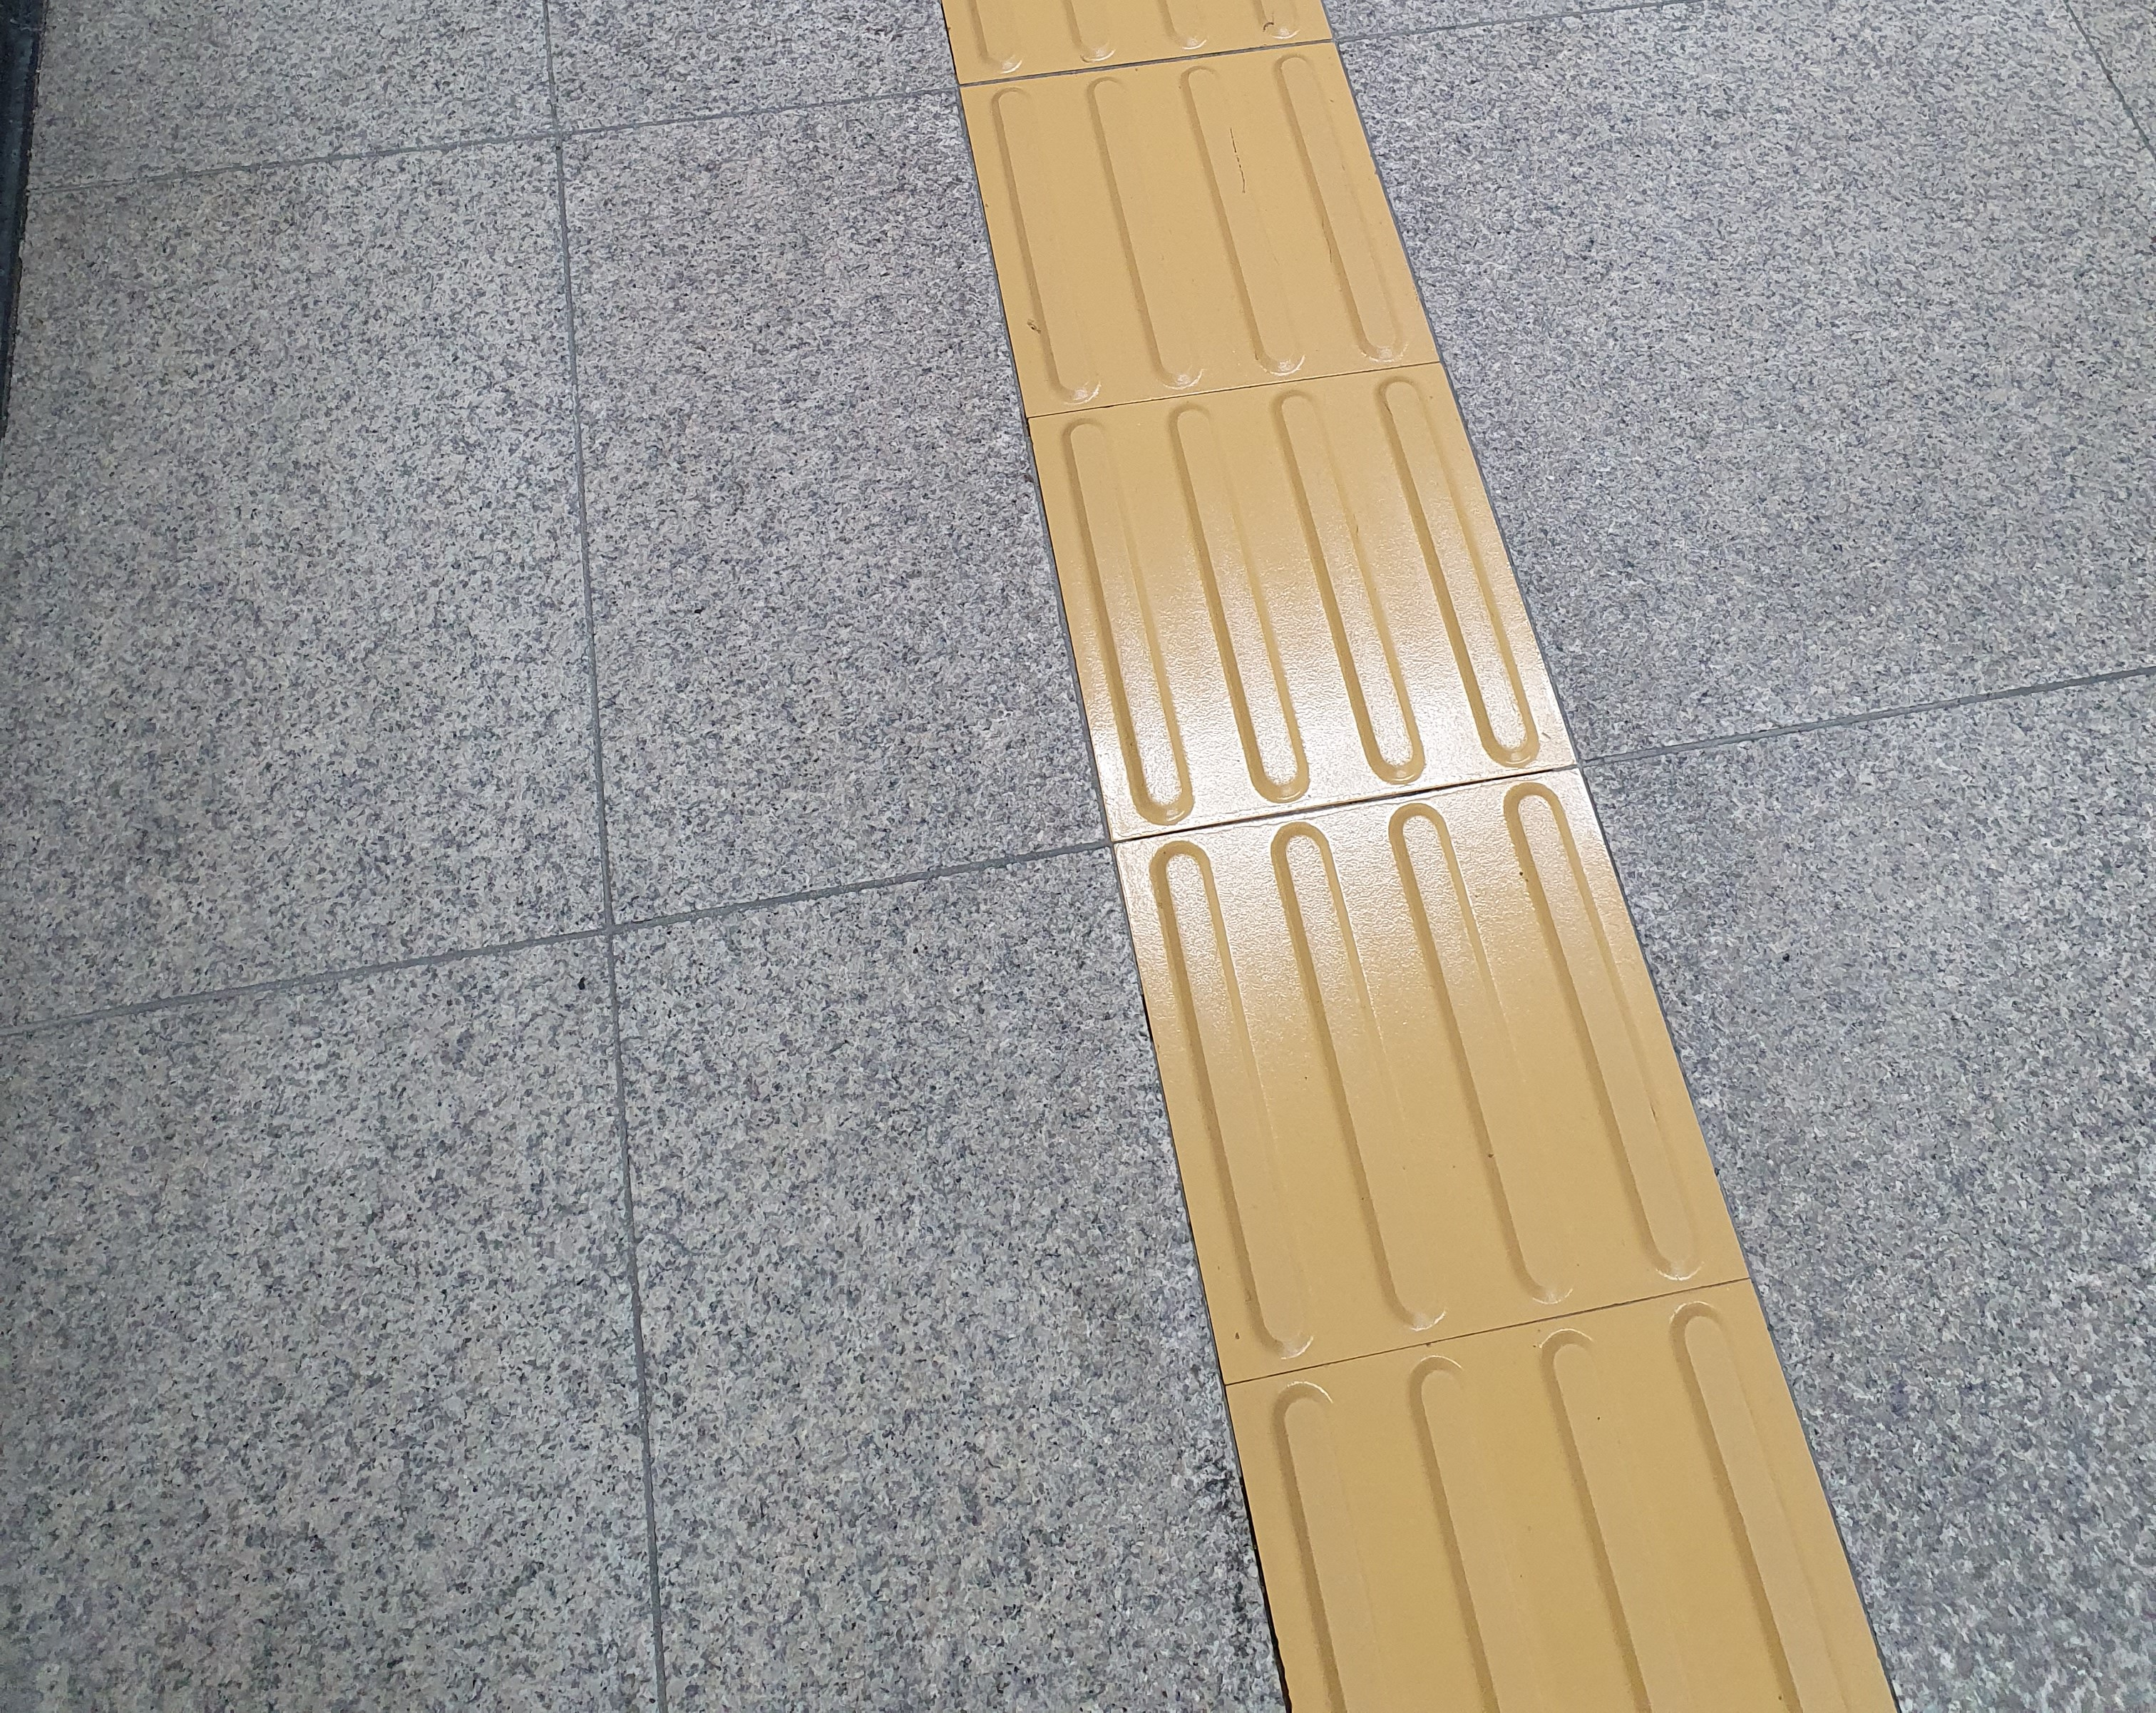guideBlock: (1127, 817, 1769, 1305), (1192, 1323, 1899, 1713), (1088, 392, 1570, 810), (992, 23, 1396, 371)
